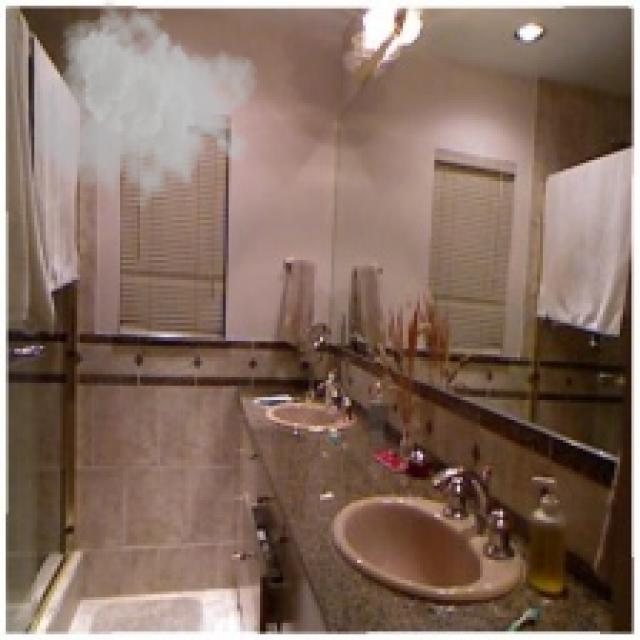smoke: (31, 0, 260, 223)
